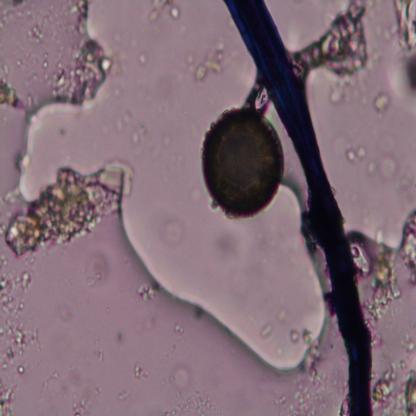Background material: (0, 157, 126, 256), (292, 0, 371, 72), (0, 256, 47, 370), (38, 37, 106, 98), (269, 352, 327, 416), (368, 244, 404, 333), (384, 3, 416, 99), (368, 361, 416, 416), (335, 142, 403, 179), (188, 39, 232, 89), (0, 74, 36, 114), (154, 396, 226, 416), (158, 210, 186, 250), (132, 273, 160, 309), (284, 327, 316, 354), (83, 252, 107, 288), (27, 10, 53, 43), (146, 0, 181, 22), (404, 218, 416, 282), (371, 86, 393, 116), (168, 364, 194, 389), (0, 382, 18, 416), (65, 394, 92, 416), (0, 0, 27, 21), (100, 50, 118, 77), (130, 358, 151, 381), (130, 122, 147, 147), (338, 394, 355, 416), (56, 296, 72, 316), (258, 319, 274, 337), (119, 388, 136, 404), (190, 307, 206, 322), (71, 372, 86, 387), (113, 327, 126, 344), (138, 47, 147, 65), (96, 346, 106, 362), (175, 322, 186, 336), (18, 360, 26, 376), (53, 367, 61, 378)
Cotton: (222, 1, 378, 416)
Diatom: (194, 102, 288, 222)
